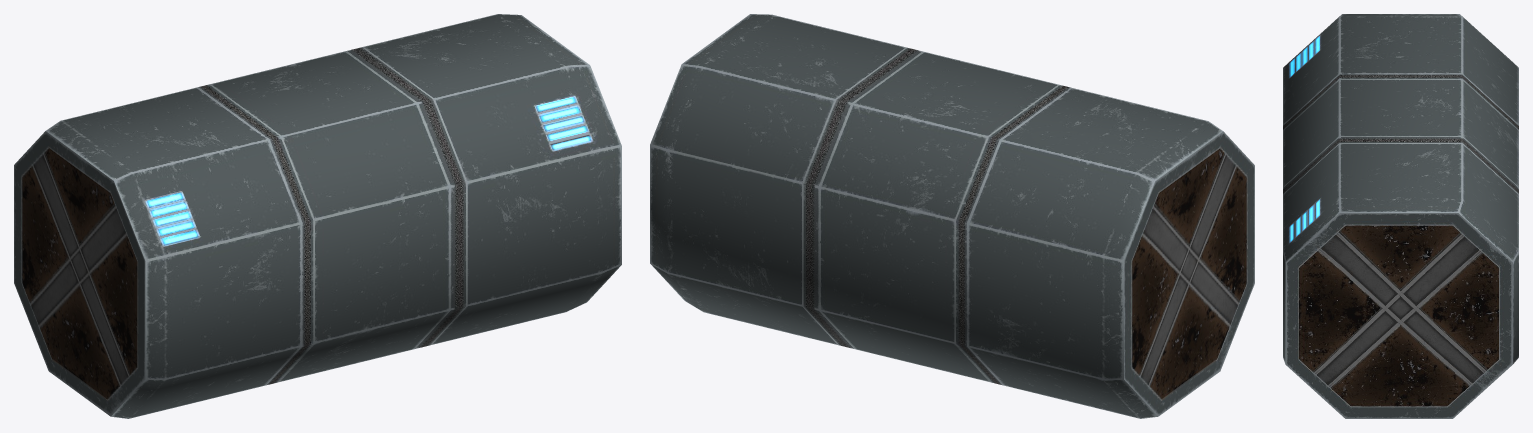
Rendered from road_1.glb.
The picture shows the model from 3 angles, left to right: view 1: azimuth 30°, elevation 25°; view 2: azimuth 150°, elevation 25°; view 3: azimuth 270°, elevation 25°; orthographic projection. The views are drawn at different scales.
Visible parts, largest first — view 1: SM_Futuristic_Crate2_JFG_low; view 2: SM_Futuristic_Crate2_JFG_low; view 3: SM_Futuristic_Crate2_JFG_low.
Boxes of the visible parts, bbox=[...] form: SM_Futuristic_Crate2_JFG_low: bbox=[14, 14, 621, 418]; SM_Futuristic_Crate2_JFG_low: bbox=[650, 14, 1254, 418]; SM_Futuristic_Crate2_JFG_low: bbox=[1283, 14, 1518, 418].
Size of the model in its own units: 4 by 2 by 2.
Materials: 1 (1 with a texture image).
